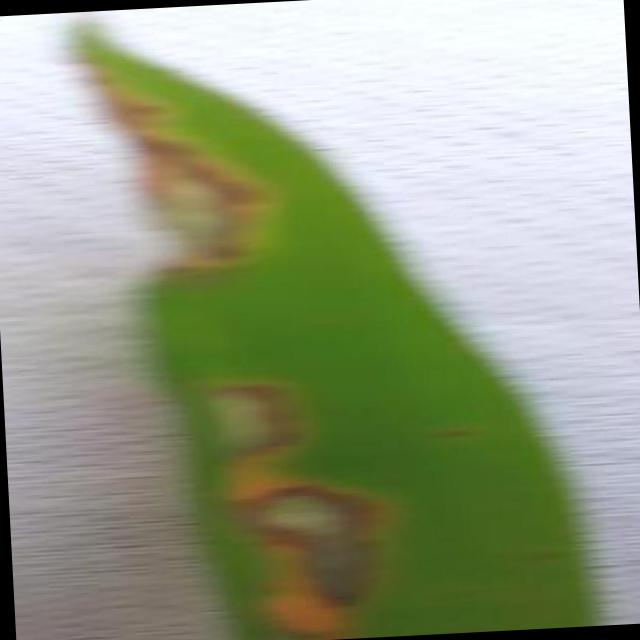Rice_Blast: (214, 472, 388, 614), (194, 327, 320, 476)
